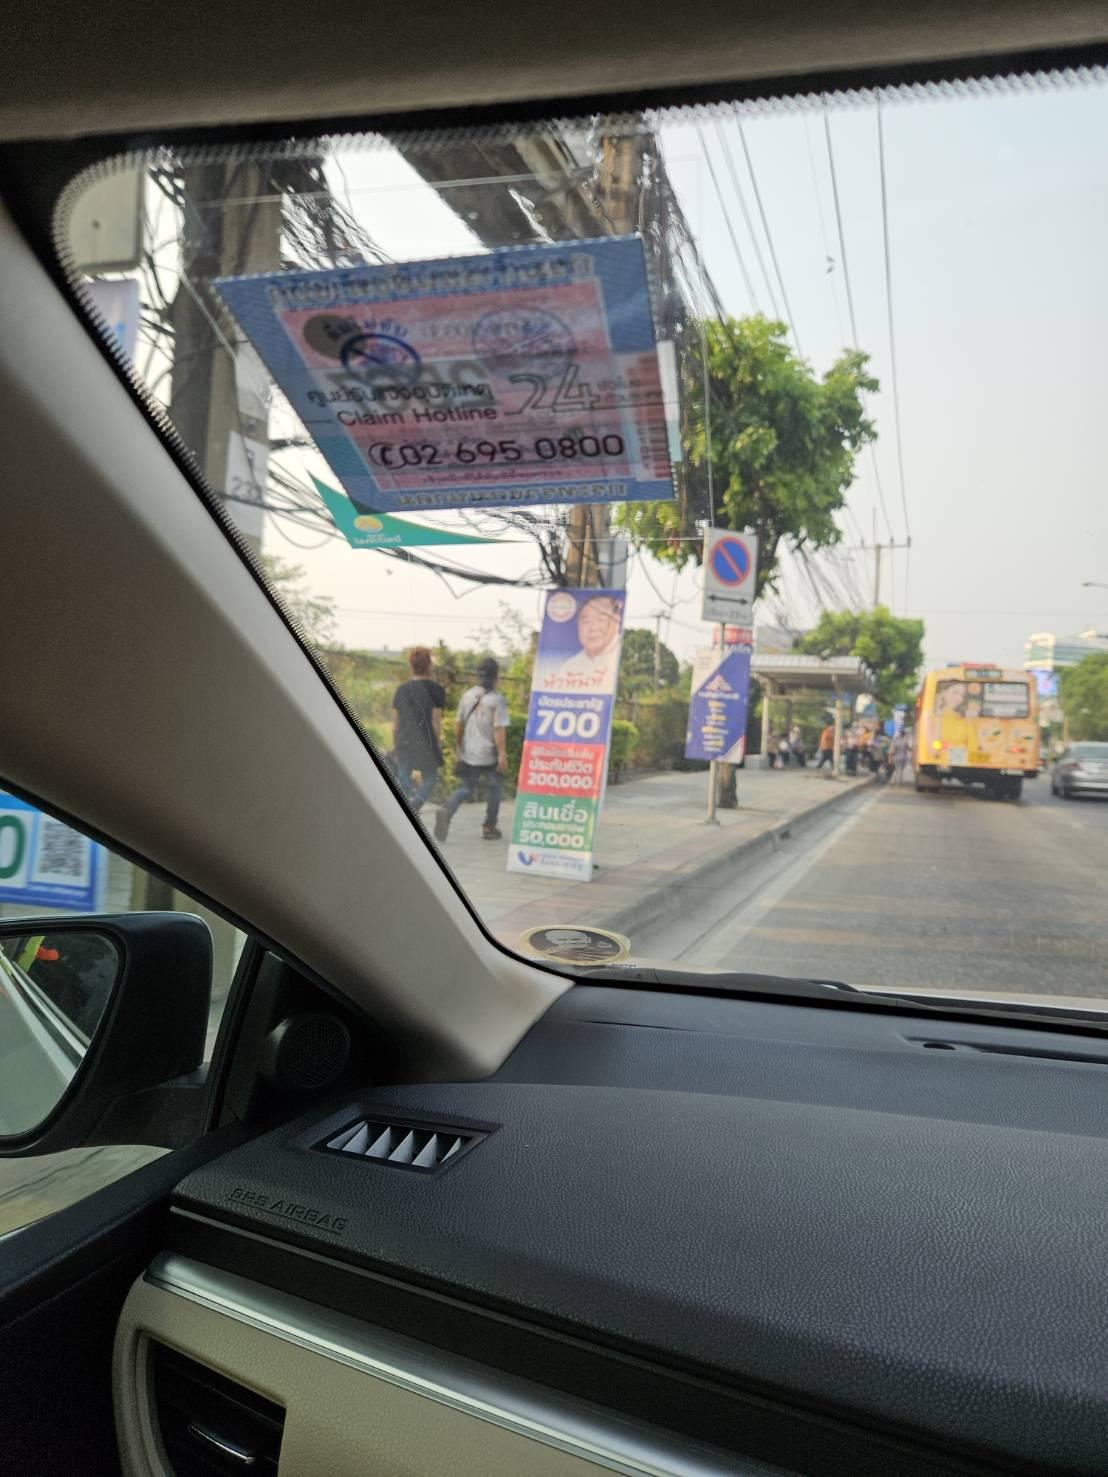Banner: (505, 592, 623, 878), (690, 645, 757, 767)
